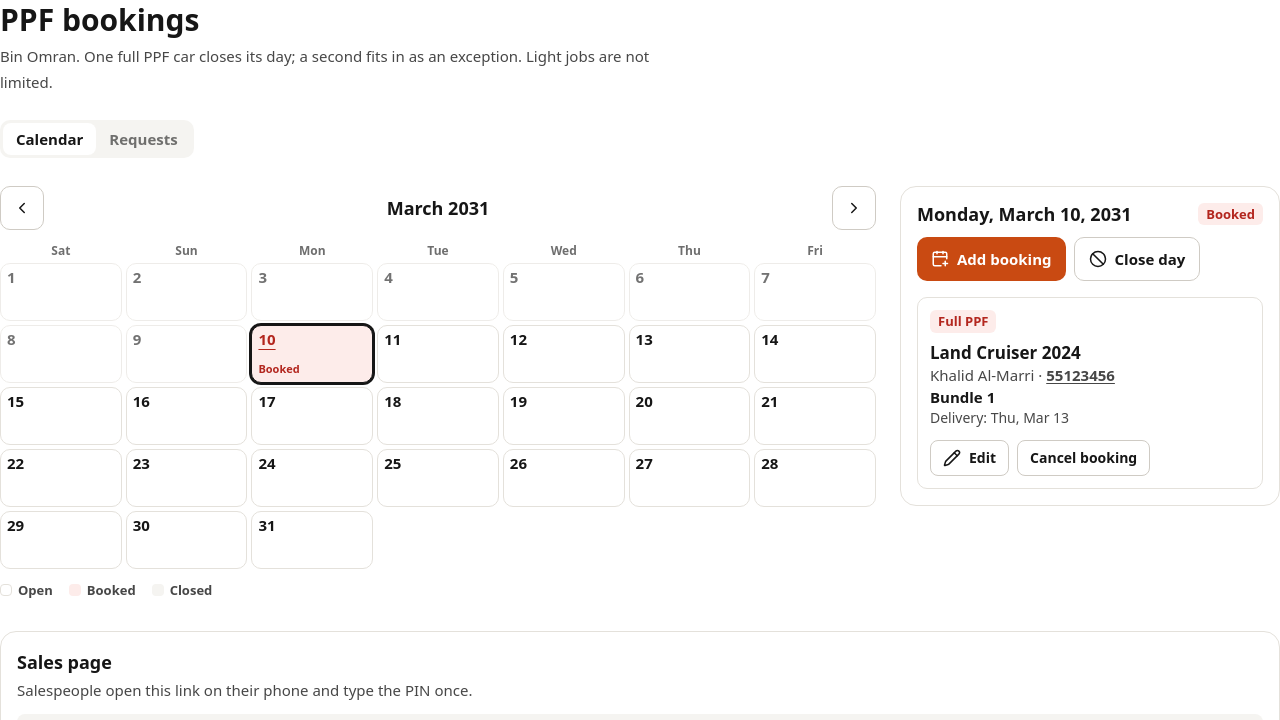
Test: PPF bookings page › cancels a booking after confirming; a cancelled one has no actions
Click the button "Cancel booking": click(1084, 458) [1017,440,1150,476]
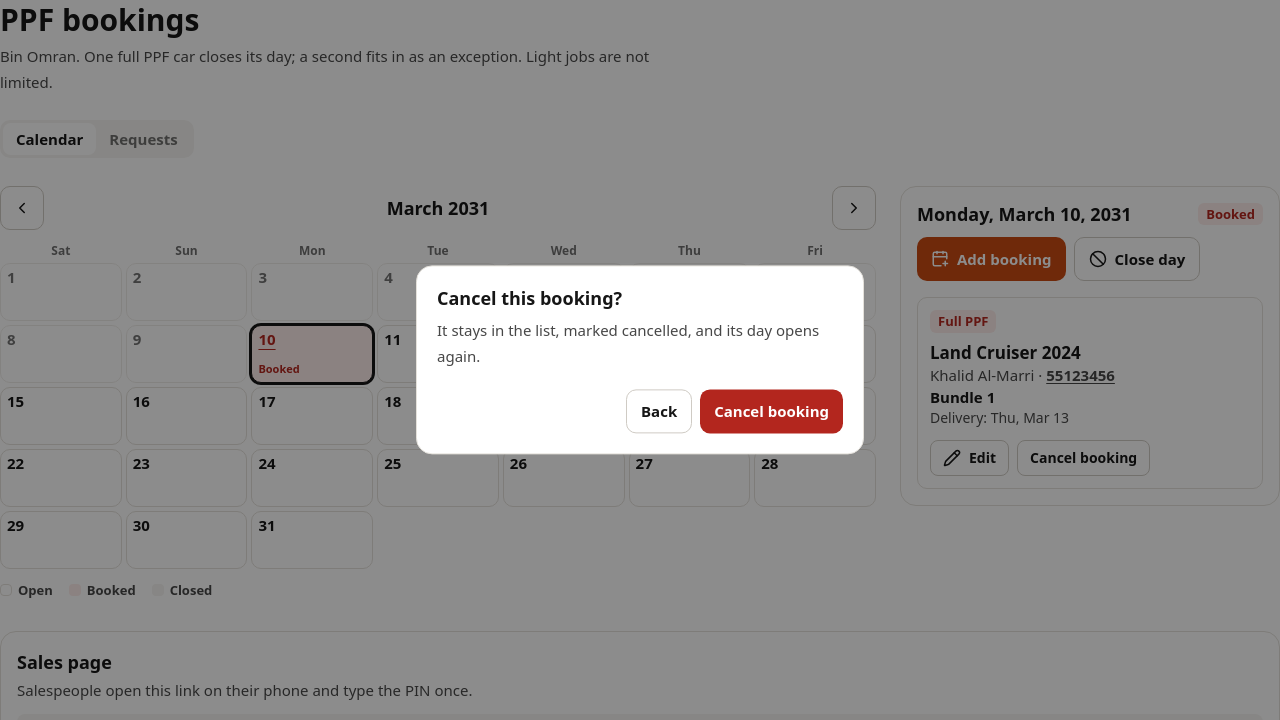
Click the button "Cancel booking": click(772, 412) [700,390,843,434]
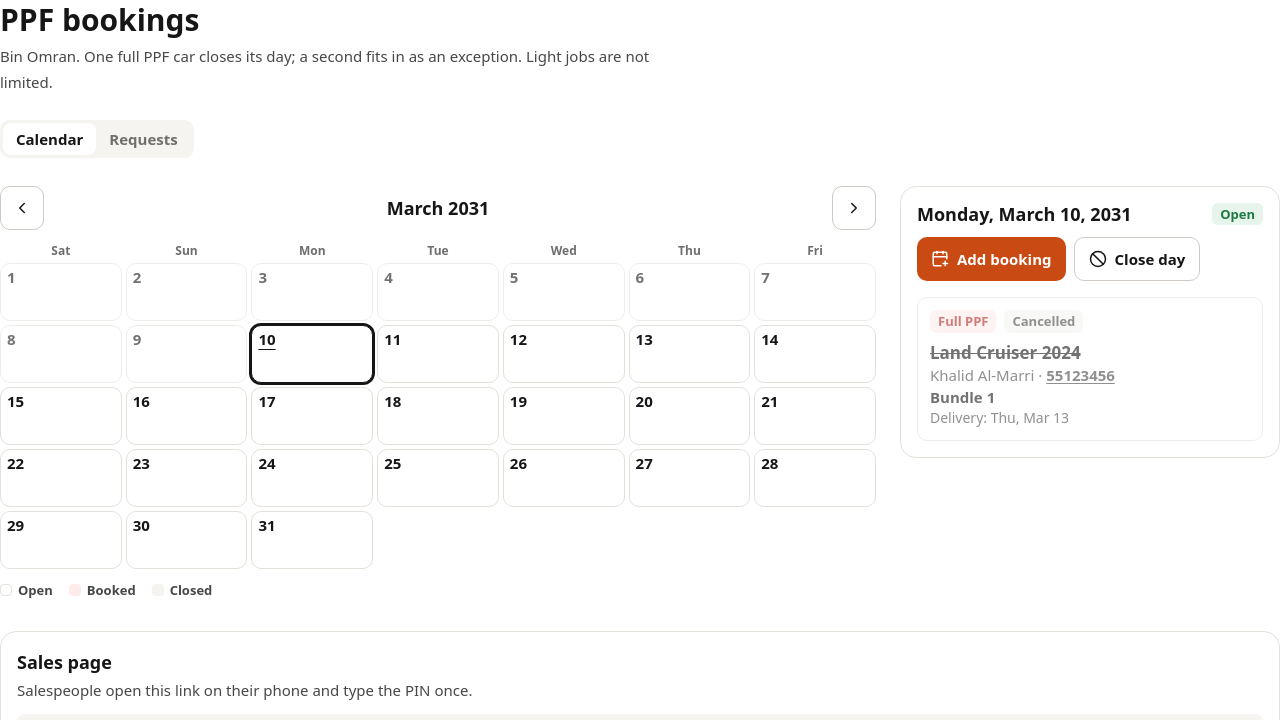
Result: the text "Cancelled" is shown at [1004,310,1083,333]
Result: the button "Edit" is gone
